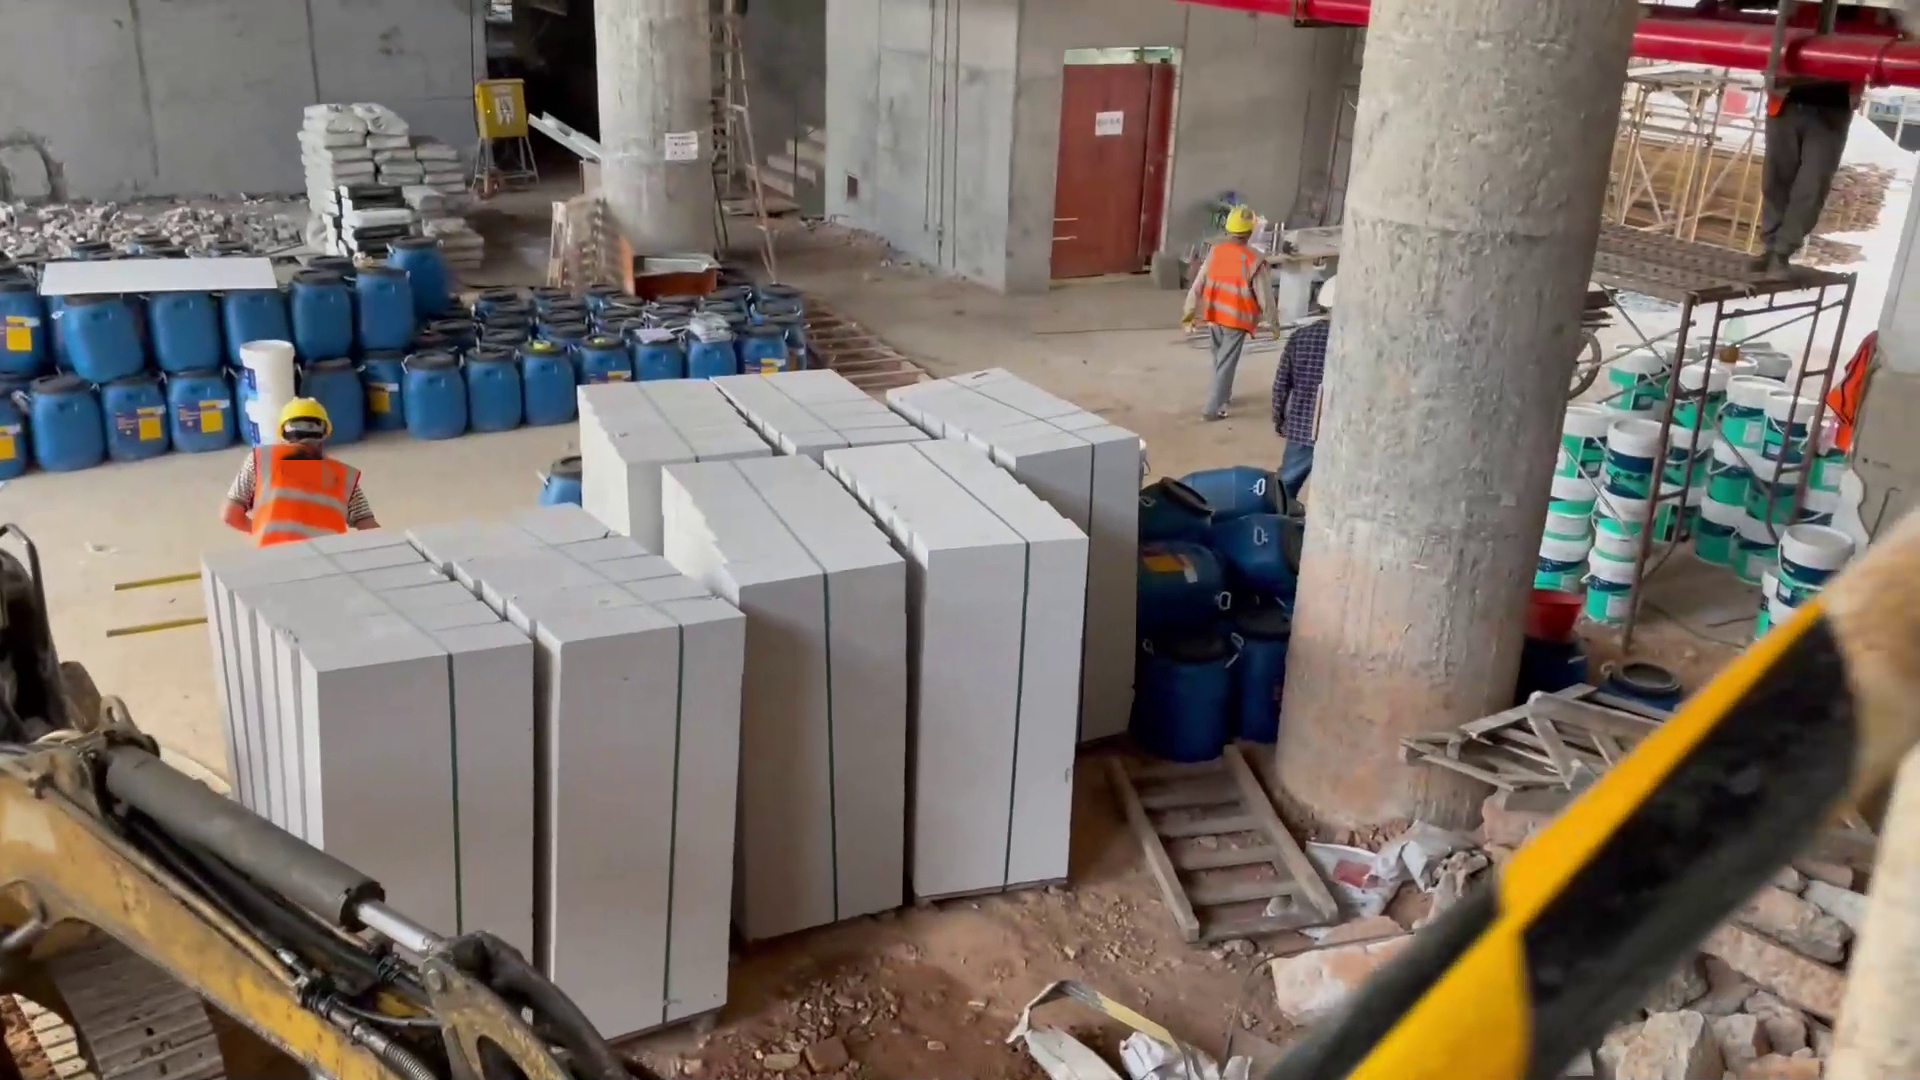brick: (572, 374, 1153, 923), (195, 501, 748, 1041)
ebox: (463, 78, 542, 191)
helmet: (267, 394, 335, 423), (1313, 261, 1345, 307), (1222, 210, 1255, 242)
person: (1743, 6, 1848, 287), (217, 390, 381, 541), (1185, 208, 1251, 428), (1274, 276, 1328, 502)
vest: (232, 450, 365, 546), (1203, 243, 1261, 345), (1830, 329, 1872, 451)
